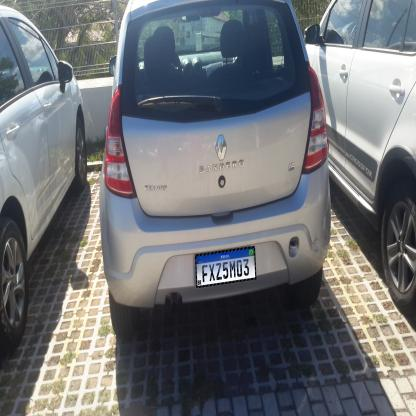PlacaM: (195, 246, 256, 288)
